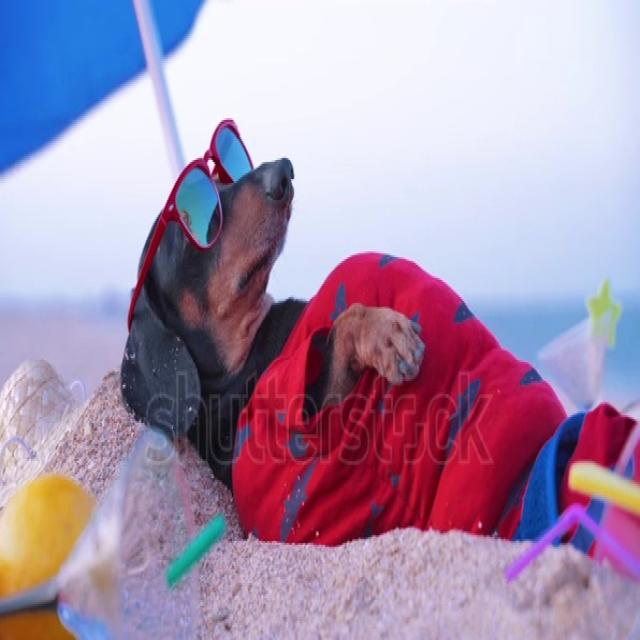injured-animals: (116, 114, 637, 587)
